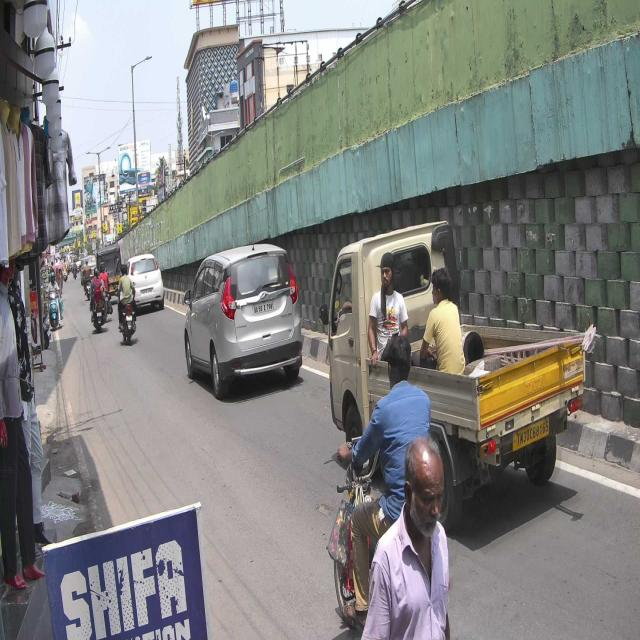single_rider: (329, 332, 443, 632)
